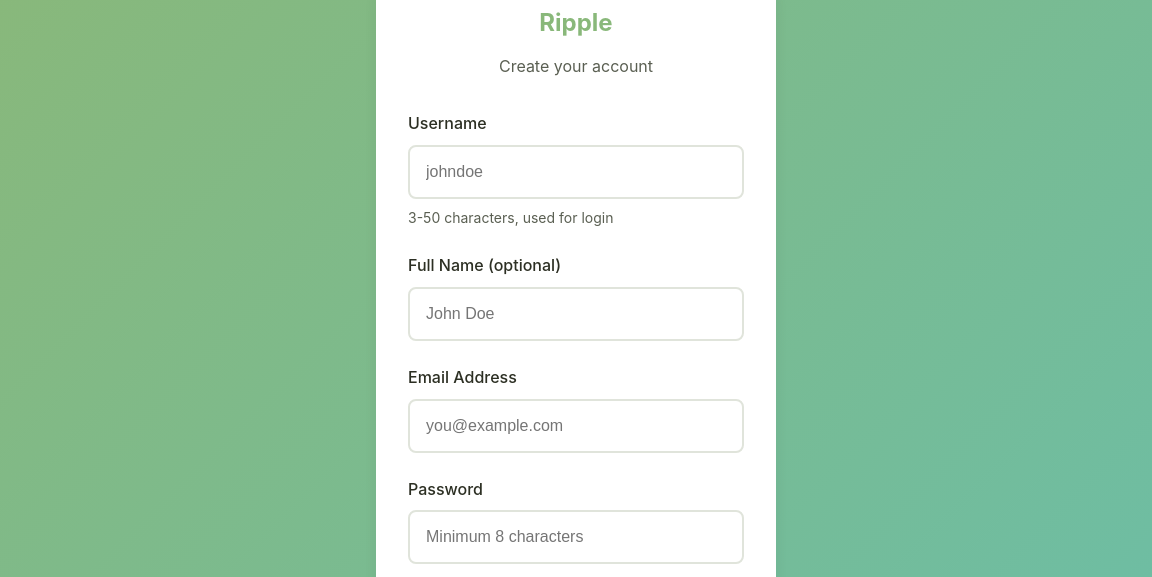
Test: Register Component › displays error message when registration fails
The image size is (1152, 577).
Note: Fill in form
Type "existinguser" into the field labelled "Username" at [576, 172], box x1=408 y1=145 x2=744 y2=199
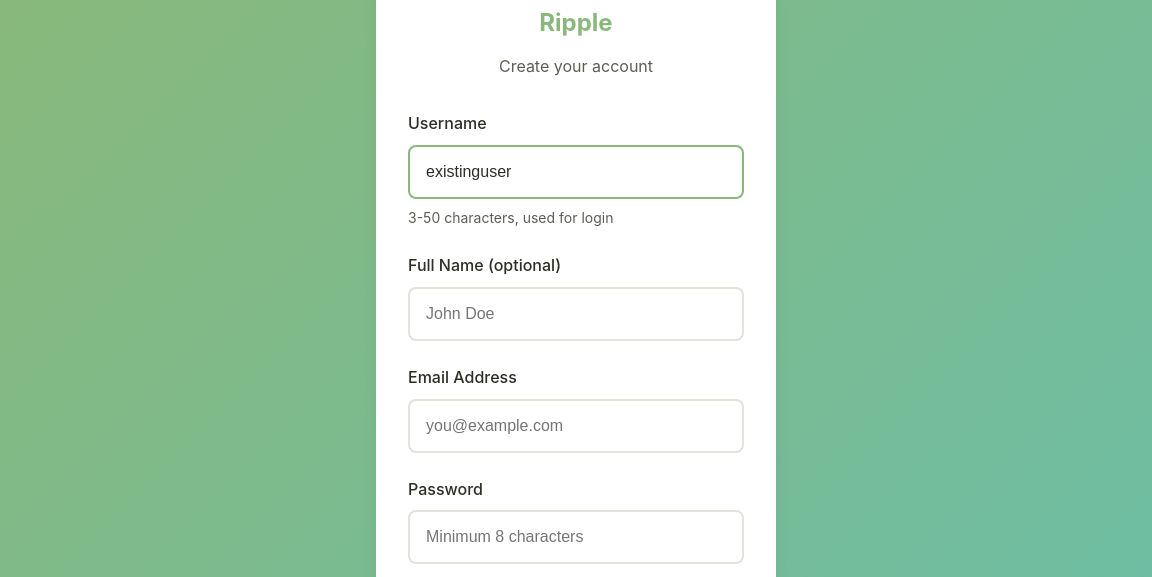
Type "test@example.com" into the field labelled "Email Address" at [576, 426], box x1=408 y1=399 x2=744 y2=453
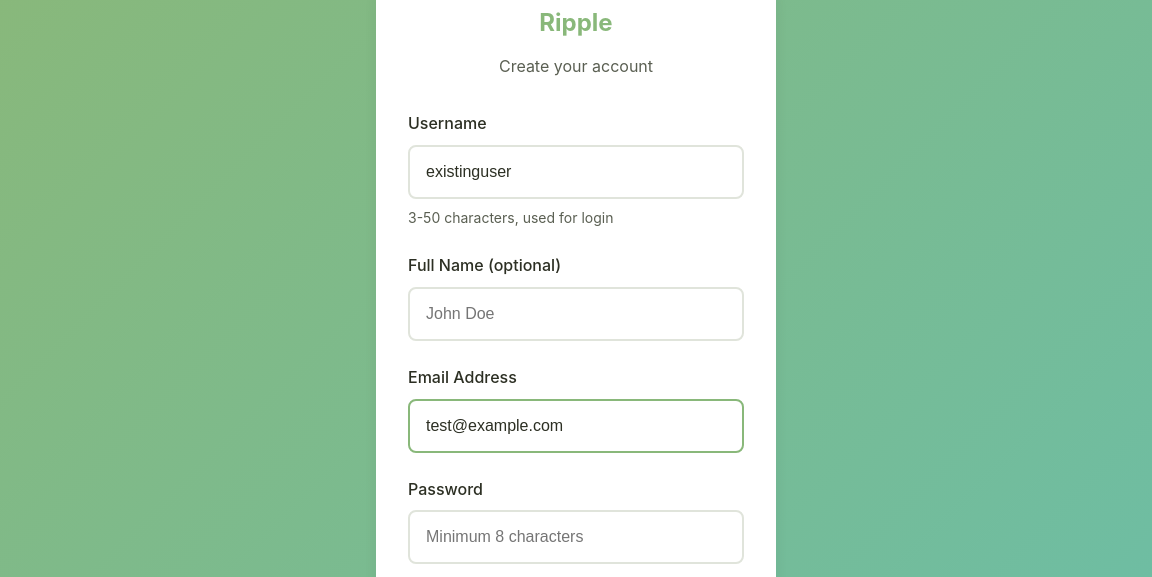
Type "password123" into the password field labelled "Password" at [576, 537], box x1=408 y1=510 x2=744 y2=564
(page scrolled)
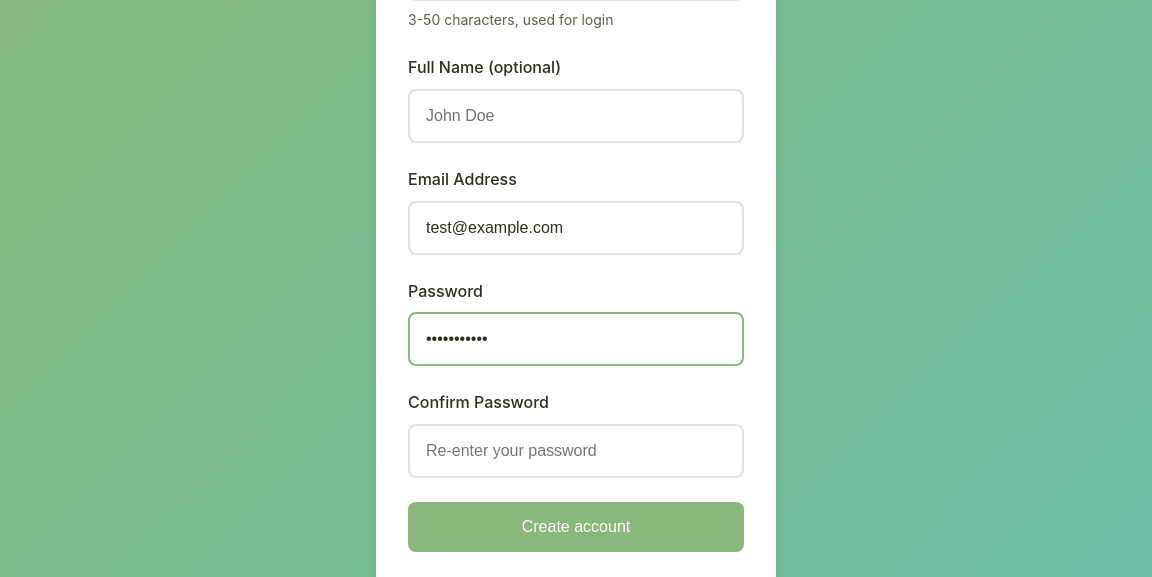
Type "password123" into the password field labelled "Confirm Password" at [576, 451], box x1=408 y1=424 x2=744 y2=478
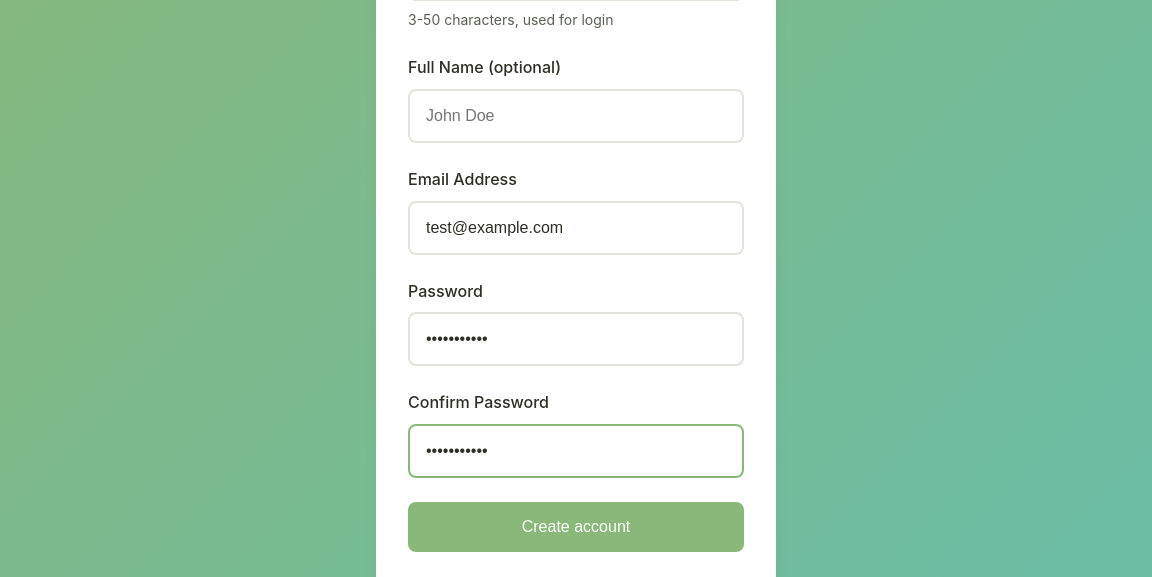
Note: Submit form
Click the button "Create account" at [576, 527], box x1=408 y1=502 x2=744 y2=552
(page scrolled)
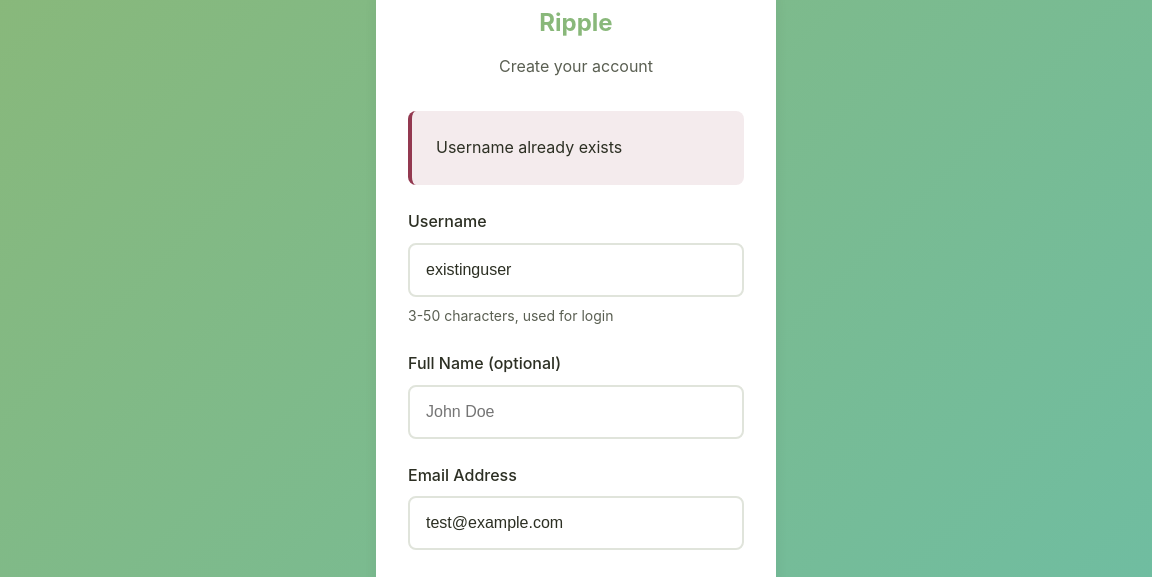
Check: the text "Username already exists" is shown, box x1=408 y1=111 x2=744 y2=185
